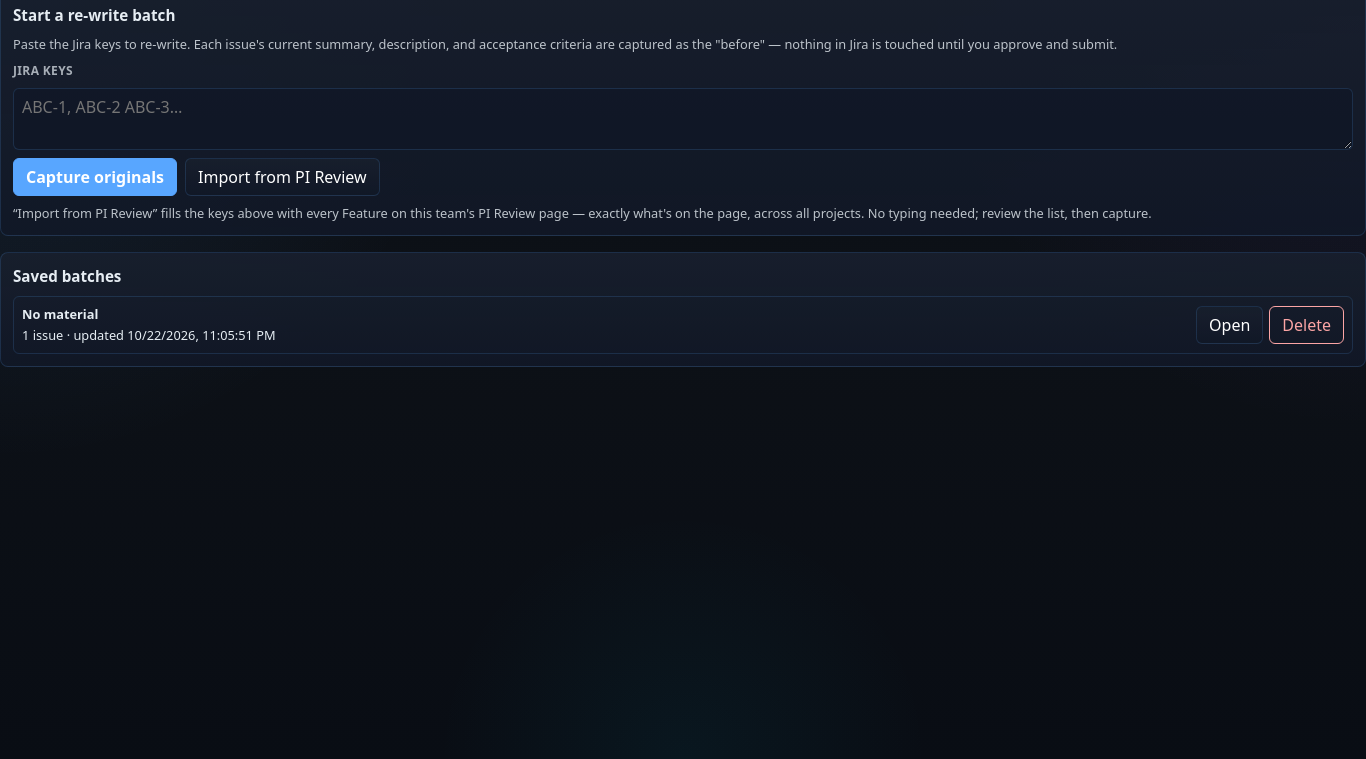
Test case: BulkRewriteTab shared material › says plainly when a batch has none, rather than leaving the panel blank
This screenshot has width=1366, height=759.
What coordinates should you click on to do the following:
click the button "Open"
I would click on:
 (1230, 325)
Its box is [1196, 306, 1263, 344].
(page scrolled)
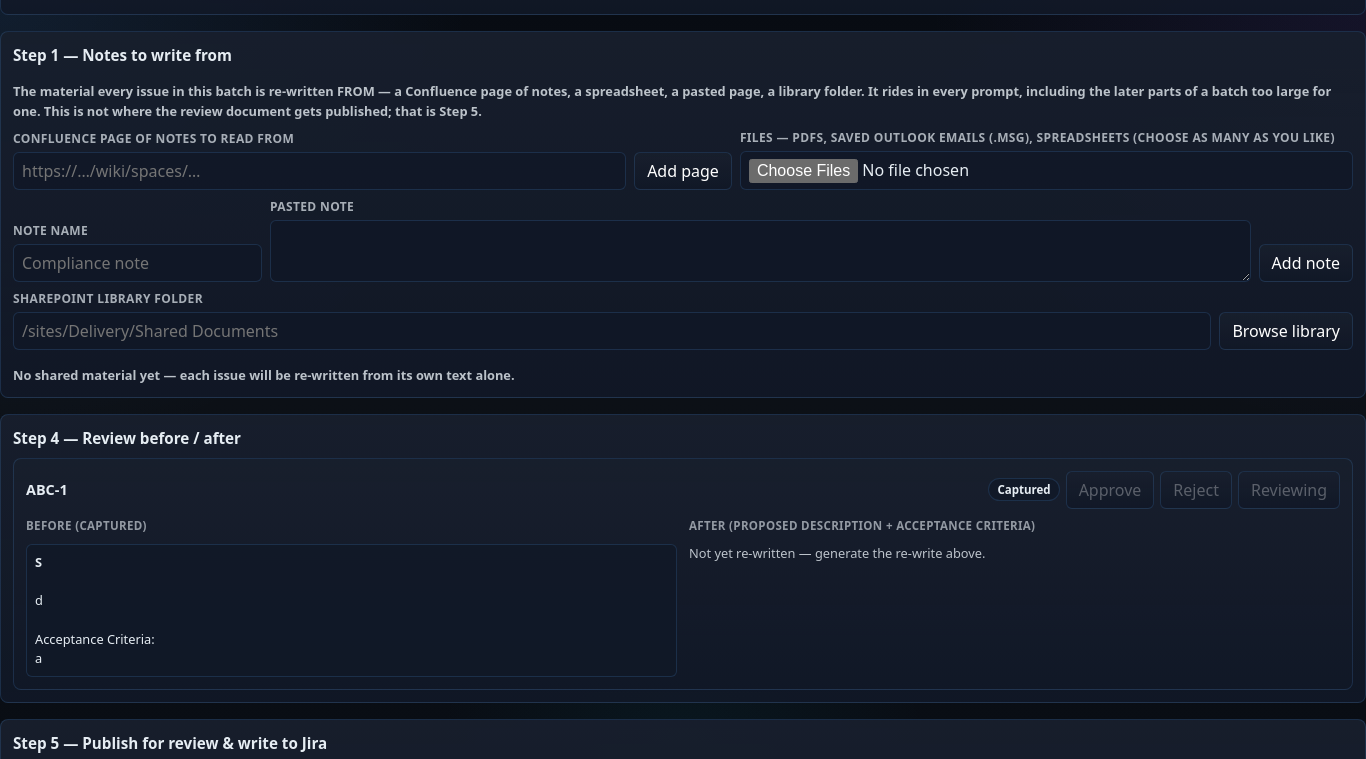
Check: the text "re-written from its own text alone" is shown, box [13, 366, 515, 384]
